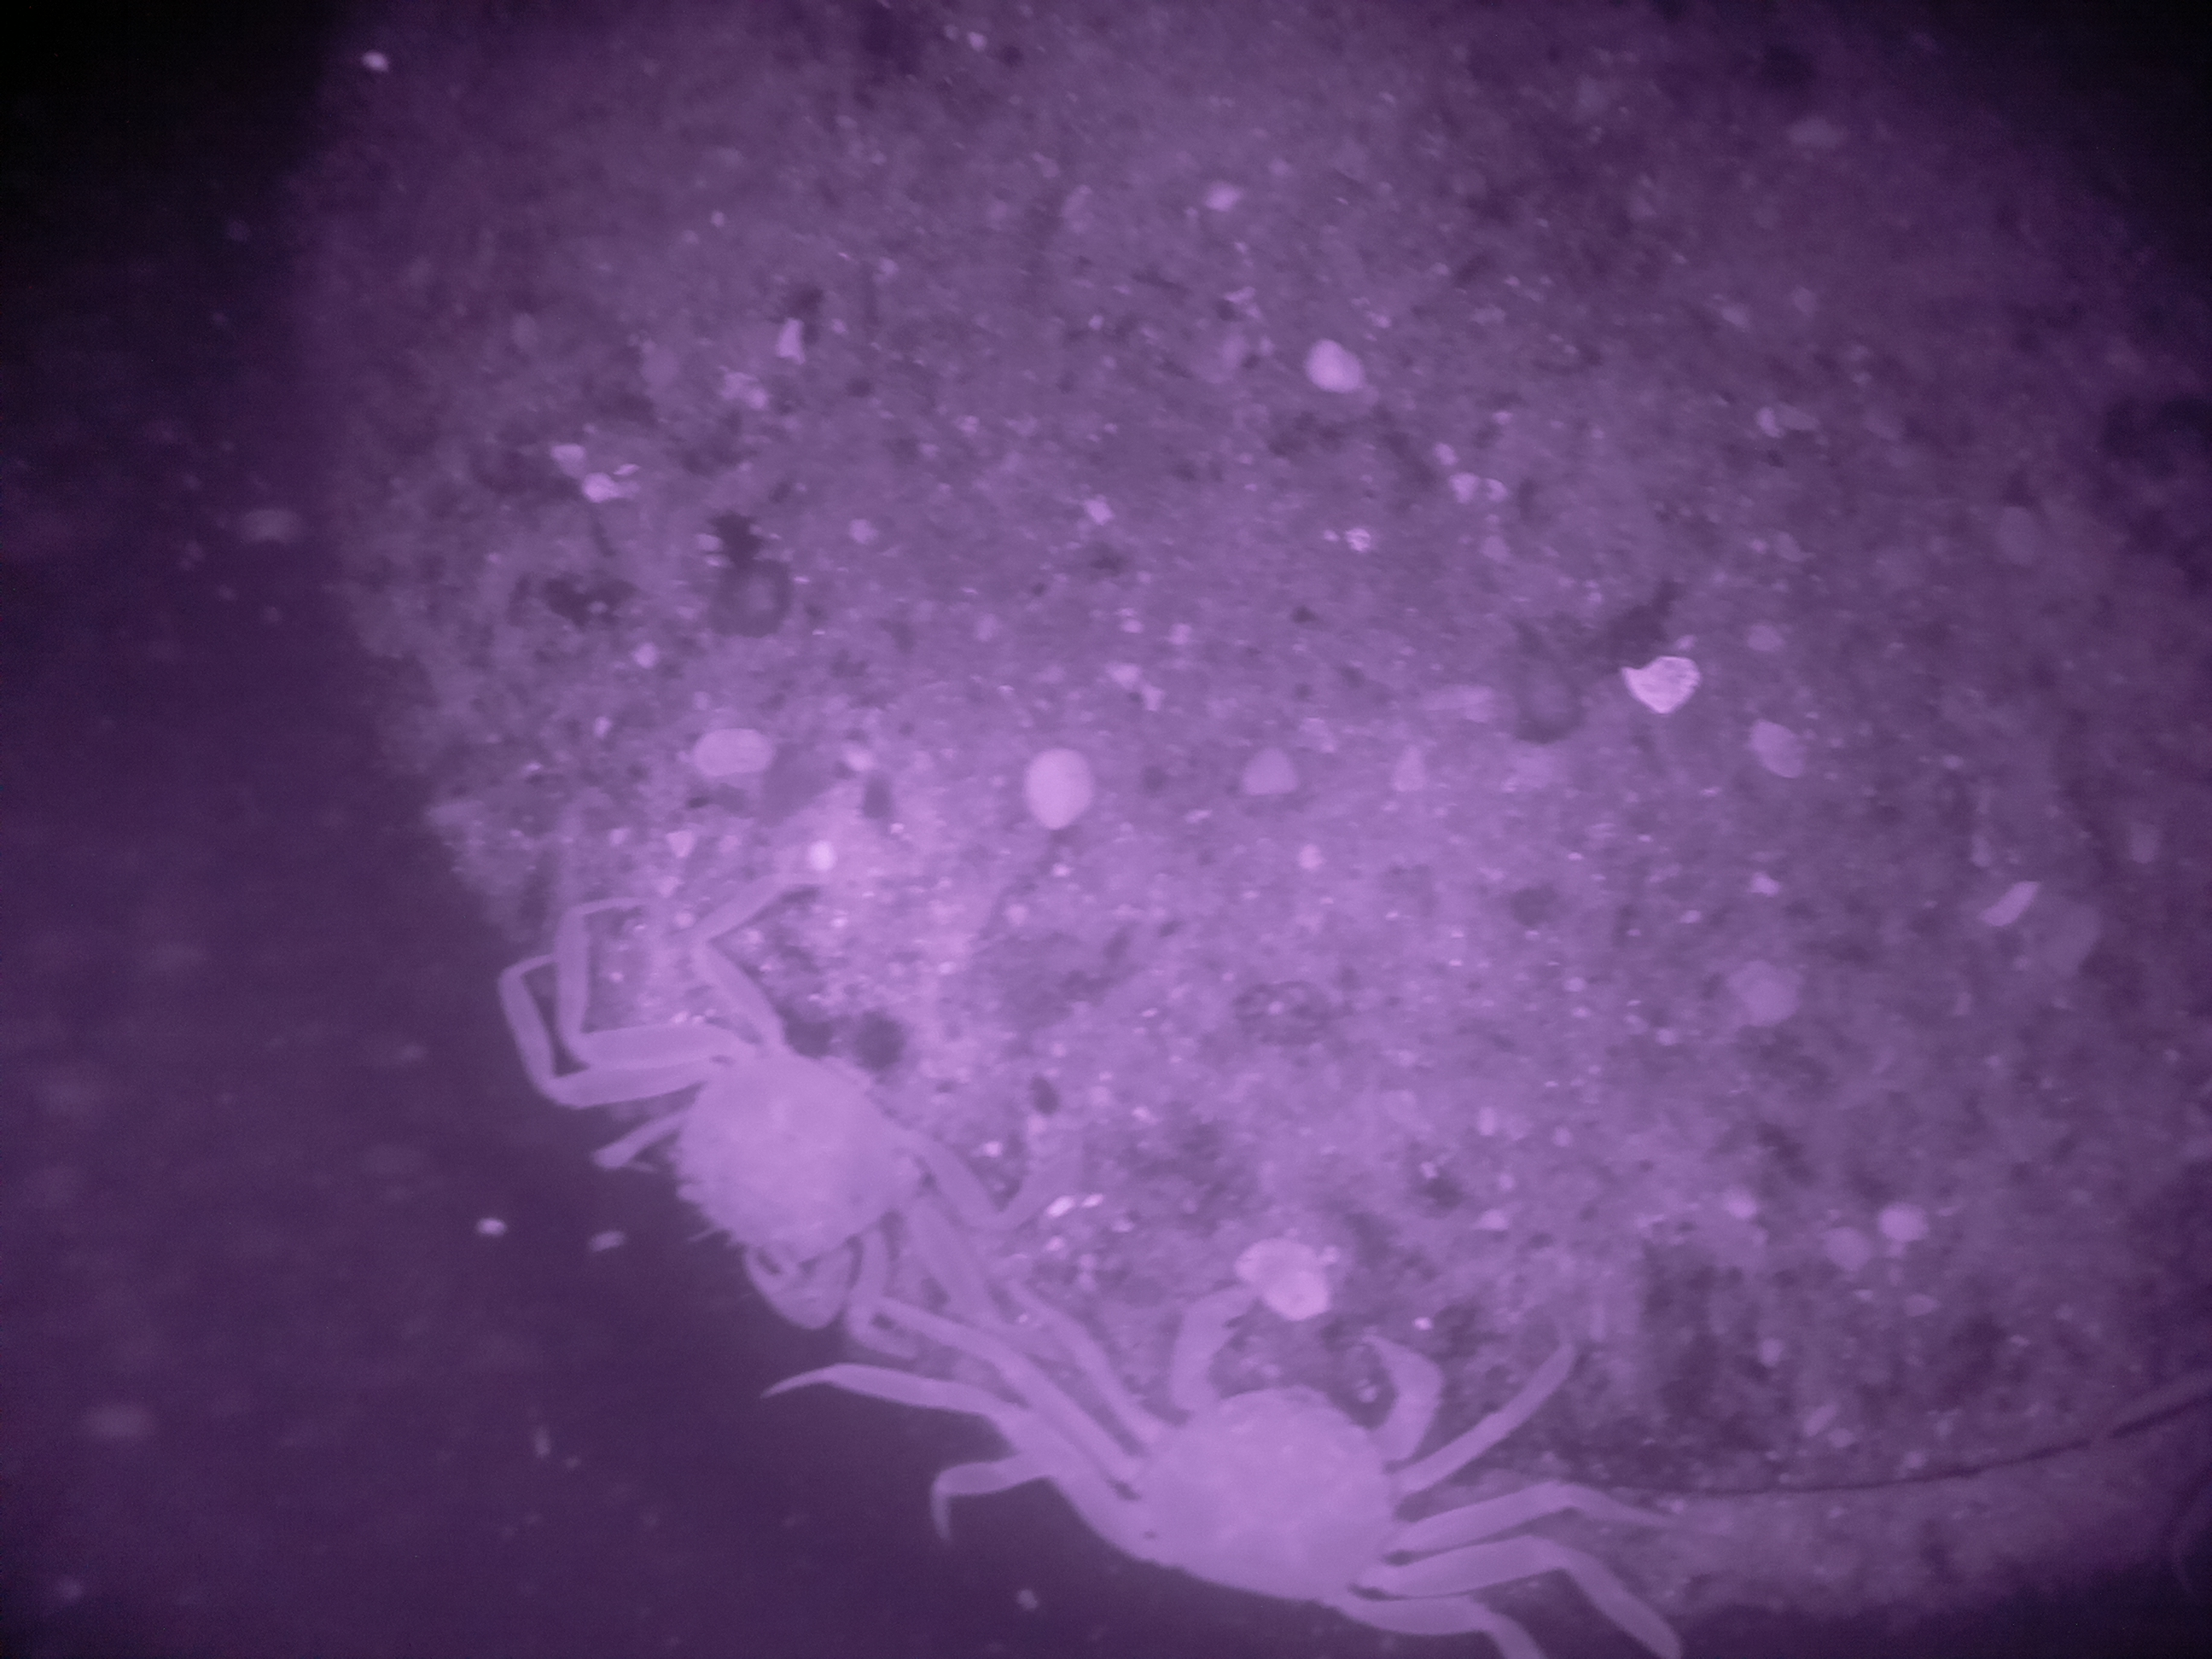Crab: (928, 1263, 1623, 1649), (495, 953, 1064, 1347)
